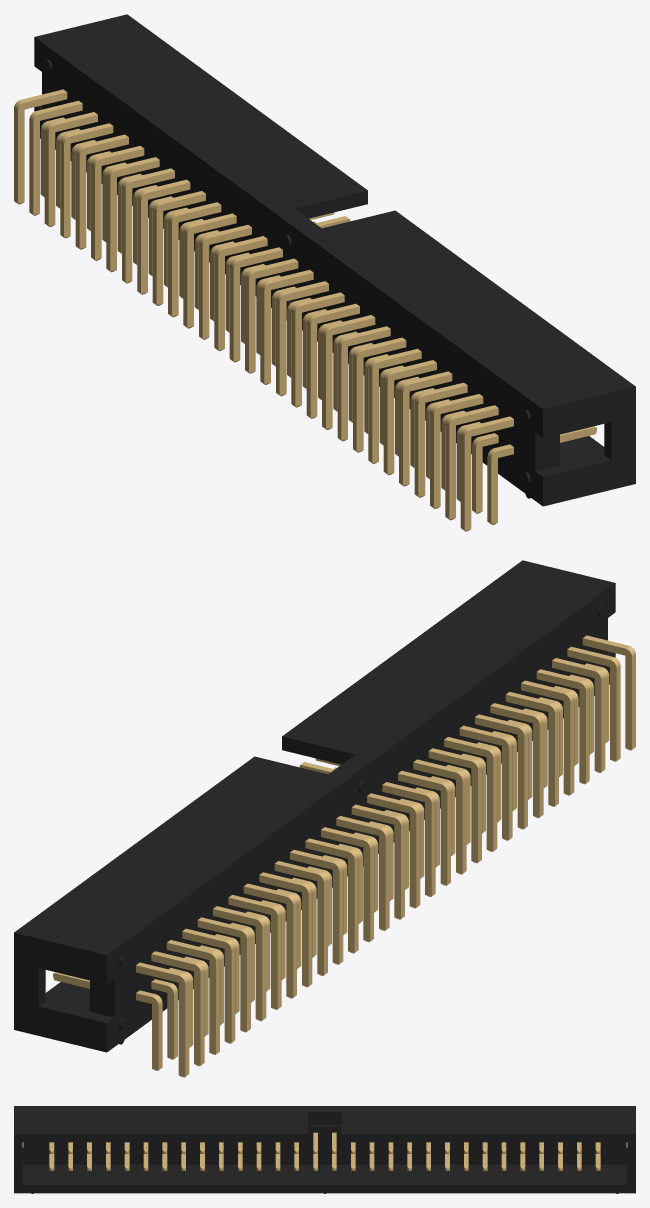
Rendered from kc-idc-header_2x30_p2.54mm_horizontal.glb.
3 views of the same model, one above another, from view 1: azimuth 30°, elevation 25°; view 2: azimuth 150°, elevation 25°; view 3: azimuth 270°, elevation 25° (orthographic). The views are drawn at different scales.
Visible parts, largest first — view 1: 0_0_0_0, 0.75_0.5_0.25_0.9; view 2: 0_0_0_0, 0.75_0.5_0.25_0.9; view 3: 0_0_0_0, 0.75_0.5_0.25_0.9.
Boxes of the visible parts, x1,y1,x2,y2 form: 0_0_0_0: (34, 14, 635, 506); 0.75_0.5_0.25_0.9: (14, 89, 596, 531); 0_0_0_0: (14, 560, 615, 1052); 0.75_0.5_0.25_0.9: (53, 635, 635, 1077); 0_0_0_0: (14, 1106, 635, 1193); 0.75_0.5_0.25_0.9: (49, 1132, 600, 1170).
Bounding box in the file's own units: 1.35 × 1.21 × 8.39.
